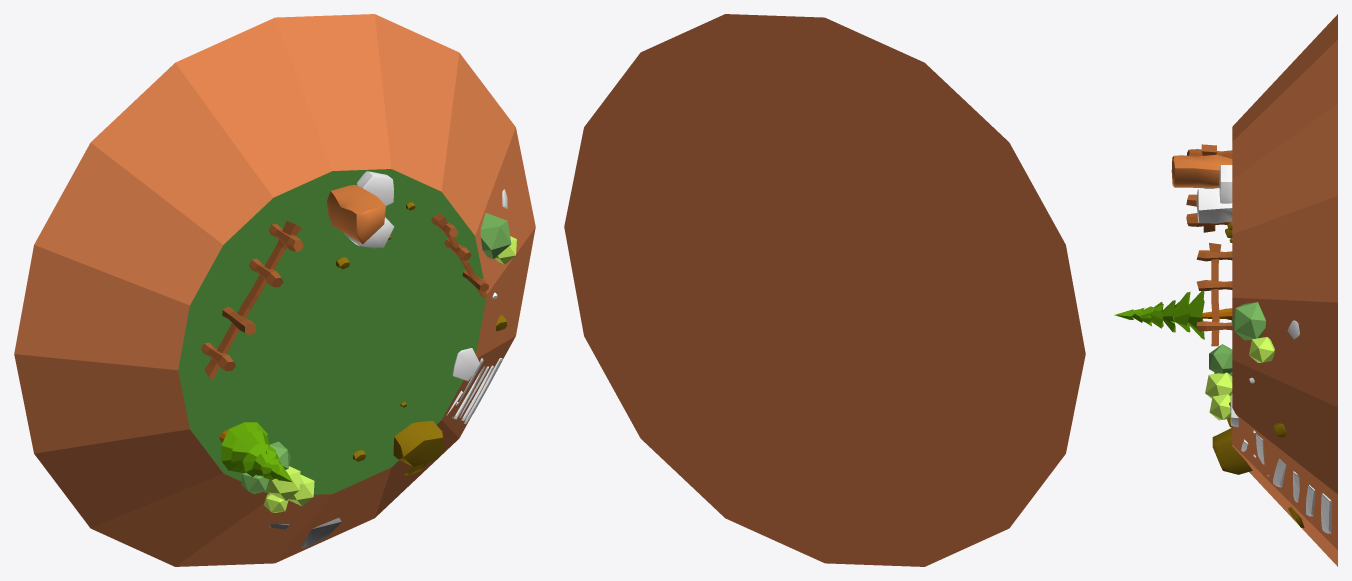
File: project landscape2.glb
The picture shows the model from 3 angles, left to right: view 1: azimuth 30°, elevation 25°; view 2: azimuth 150°, elevation 25°; view 3: azimuth 270°, elevation 25°; orthographic projection. The views are drawn at different scales.
Parts seen in each view (by area): view 1: Cylinder; view 2: Cylinder; view 3: Cylinder.
Boxes of the visible parts, x1,y1,x2,y2 form: Cylinder: [14, 14, 535, 566]; Cylinder: [564, 14, 1085, 566]; Cylinder: [1114, 14, 1337, 566].
Size of the model in its own units: 5 by 5 by 2.02.
